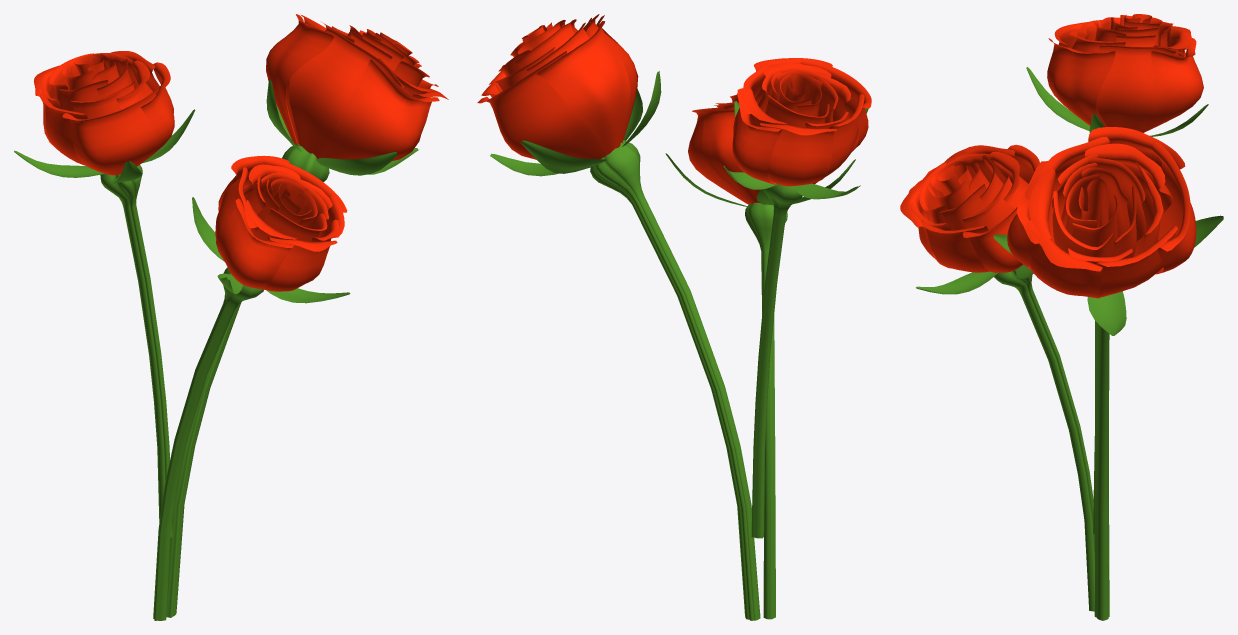
Rendered from asset.gltf.
The picture shows the model from 3 angles, left to right: view 1: azimuth 30°, elevation 25°; view 2: azimuth 150°, elevation 25°; view 3: azimuth 270°, elevation 25°; orthographic projection. The views are drawn at different scales.
Visible parts, largest first — view 1: roses, stems; view 2: roses, stems; view 3: roses, stems.
Boxes of the visible parts, x1=… form: roses: x1=34, y1=14, x2=448, y2=291; stems: x1=14, y1=79, x2=418, y2=620; roses: x1=477, y1=14, x2=871, y2=204; stems: x1=490, y1=71, x2=868, y2=620; roses: x1=900, y1=14, x2=1203, y2=298; stems: x1=915, y1=67, x2=1223, y2=620.
Size of the model in its own units: 211 by 290 by 149.
